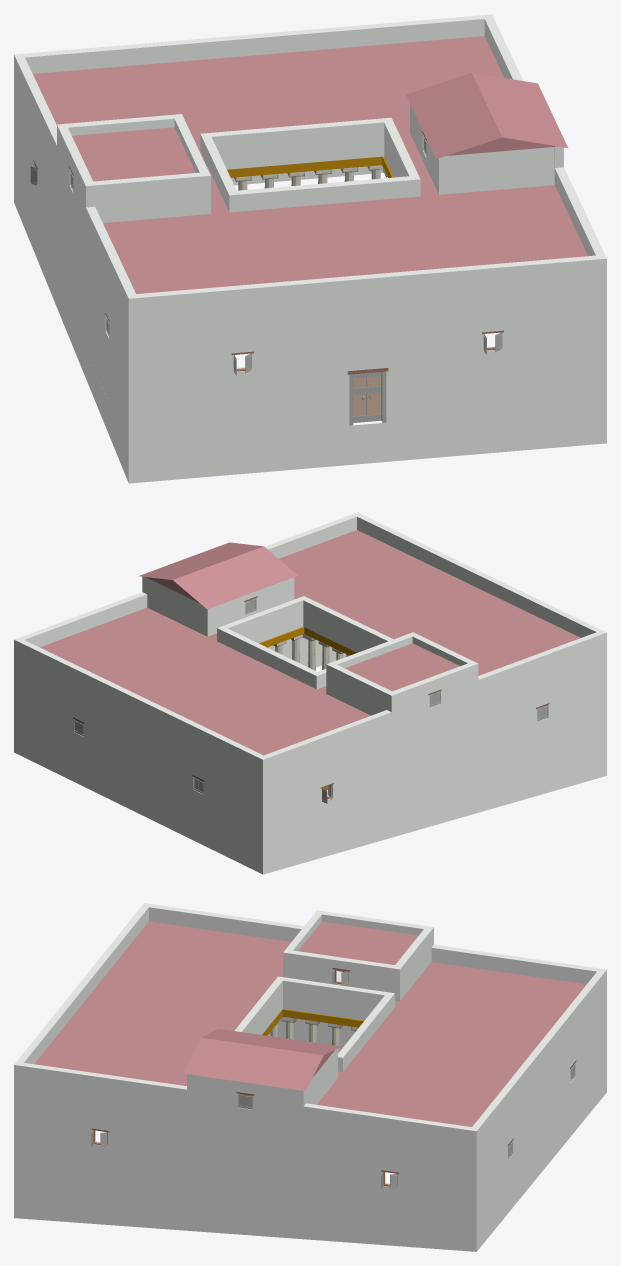
Rendered from LOD_Block_4_37.glb.
3 renders of one model, top to bottom at view 1: azimuth 30°, elevation 25°; view 2: azimuth 150°, elevation 25°; view 3: azimuth 270°, elevation 25°, orthographic. The views are drawn at different scales.
Visible parts, largest first — view 1: _1.5522; view 2: _1.5522; view 3: _1.5522.
Boxes of the visible parts, x1,y1,x2,y2 form: _1.5522: (14,14,606,483); _1.5522: (14,512,606,874); _1.5522: (14,903,606,1251).
Bounding box in the file's own units: 34.59 × 12.98 × 37.98.
Materials: 3 (3 with a texture image).
